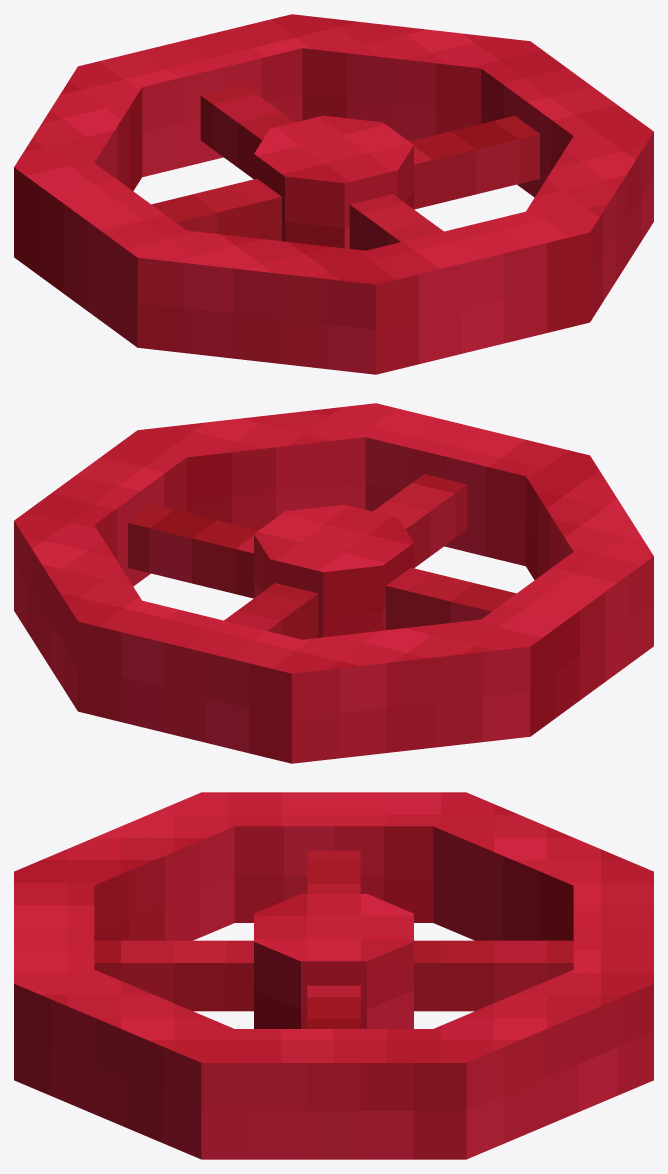
File: crank.gltf
3 renders of one model, top to bottom at view 1: azimuth 30°, elevation 25°; view 2: azimuth 150°, elevation 25°; view 3: azimuth 270°, elevation 25°, orthographic. The views are drawn at different scales.
Parts seen in each view (by area): view 1: handle, core, beam1, beam2; view 2: handle, core, beam1, beam2; view 3: handle, beam2, core, beam1.
Part boxes in pixels (box(x1,y1,x2,y2)): handle: box(14, 14, 653, 374); core: box(254, 115, 413, 248); beam1: box(151, 115, 539, 241); beam2: box(200, 85, 443, 250); handle: box(14, 403, 653, 763); core: box(254, 504, 413, 637); beam1: box(128, 504, 516, 630); beam2: box(224, 474, 467, 639); handle: box(14, 792, 653, 1159); beam2: box(94, 940, 573, 1011); core: box(254, 894, 413, 1028); beam1: box(307, 850, 360, 1028).
Bounding box in the file's own units: 0.75 × 0.25 × 0.75.
5 materials, 5 textured.
